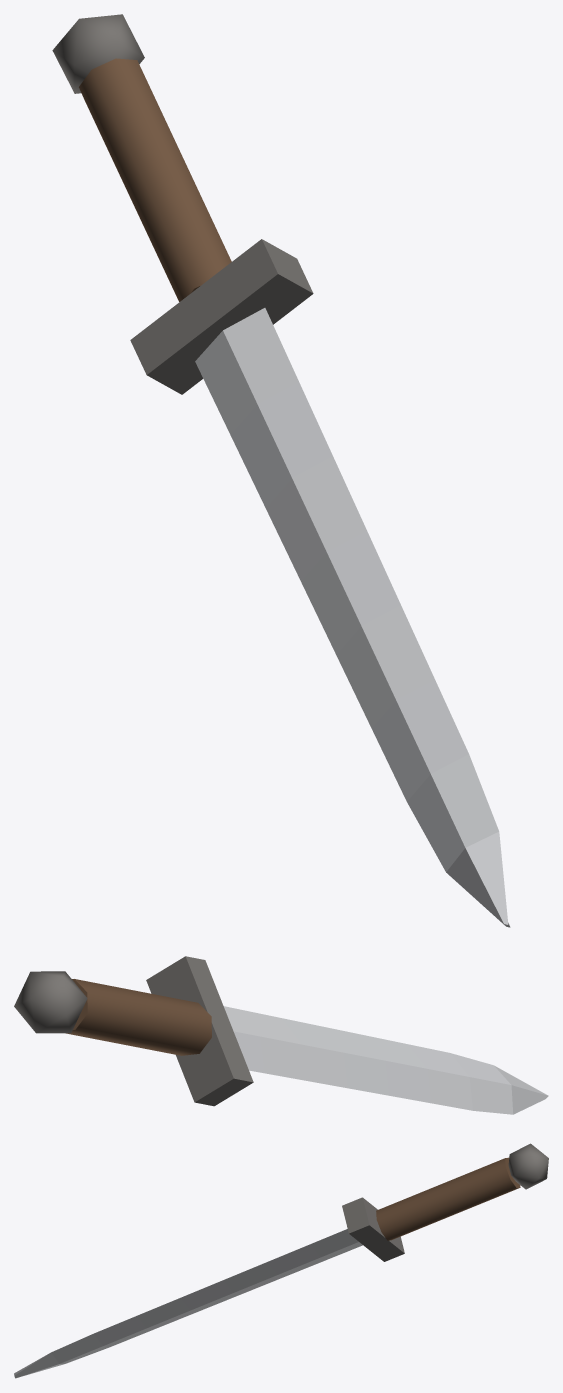
File: wpn_shortsword.glb
3 views of the same model, one above another, from view 1: azimuth 30°, elevation 25°; view 2: azimuth 150°, elevation 25°; view 3: azimuth 270°, elevation 25° (orthographic). The views are drawn at different scales.
Parts seen in each view (by area): view 1: wpn_shortsword; view 2: wpn_shortsword; view 3: wpn_shortsword.
Part boxes in pixels (x1,y1,x2,y2): wpn_shortsword: [52, 14, 510, 927]; wpn_shortsword: [14, 956, 548, 1114]; wpn_shortsword: [14, 1143, 548, 1378].
Bounding box in the file's own units: 0.0617 × 0.194 × 0.368.
